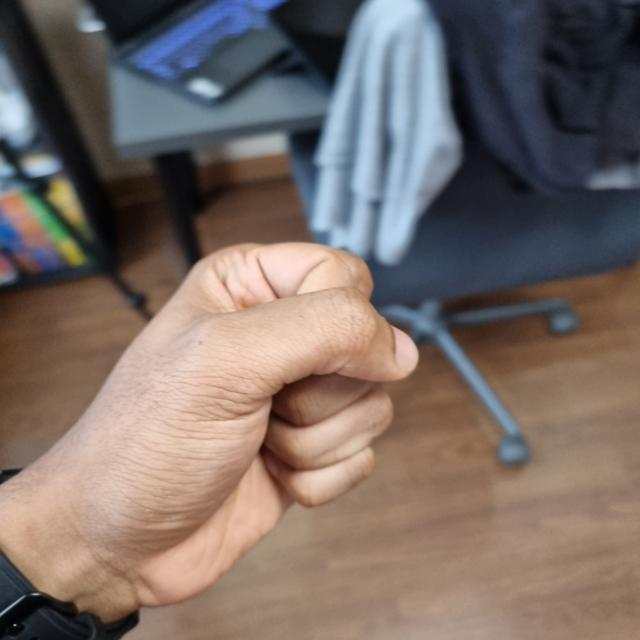Rock: (1, 240, 406, 609)
